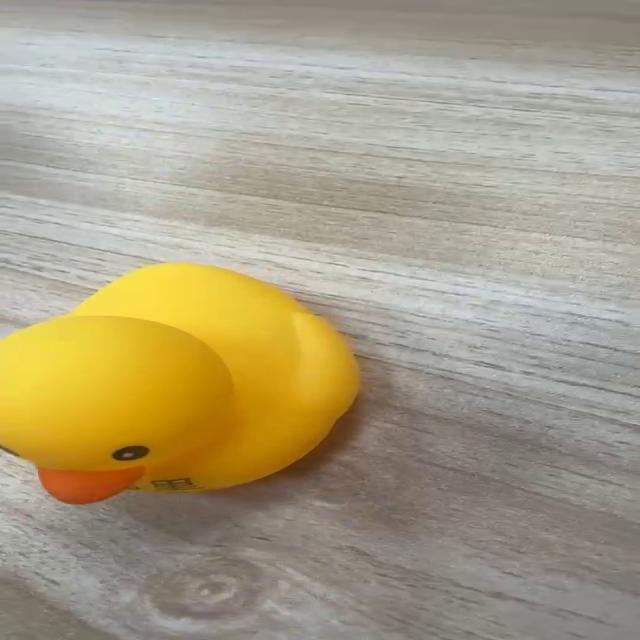yellow_duck: (0, 260, 361, 504)
